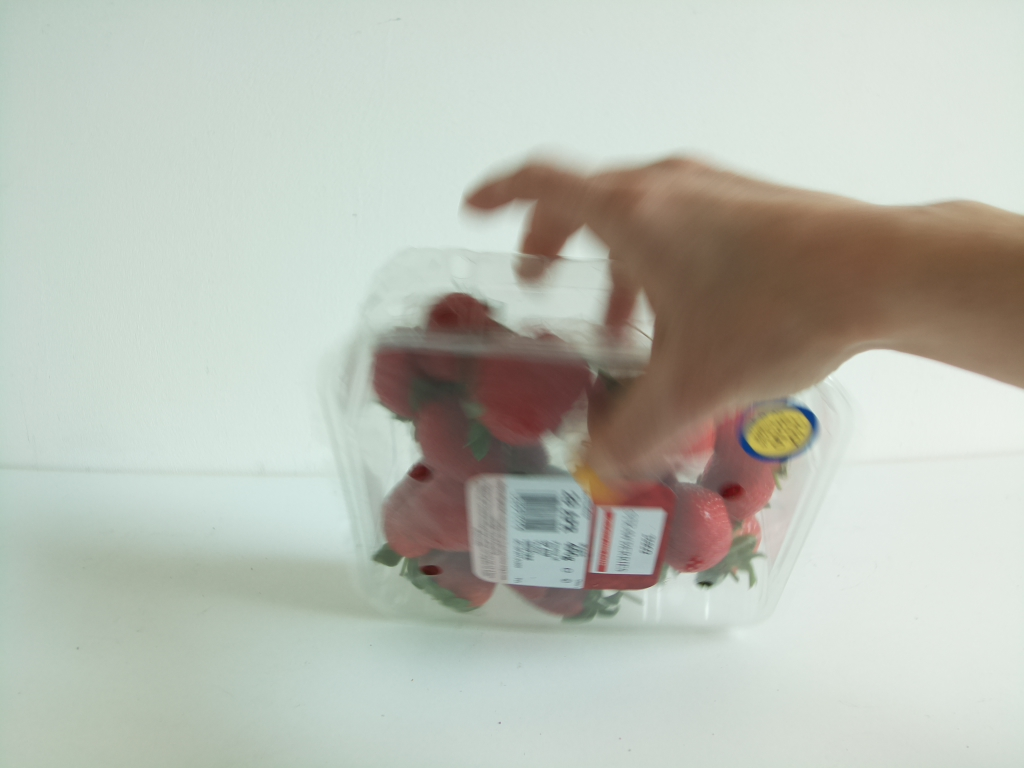soft-fruit: (331, 240, 859, 642)
